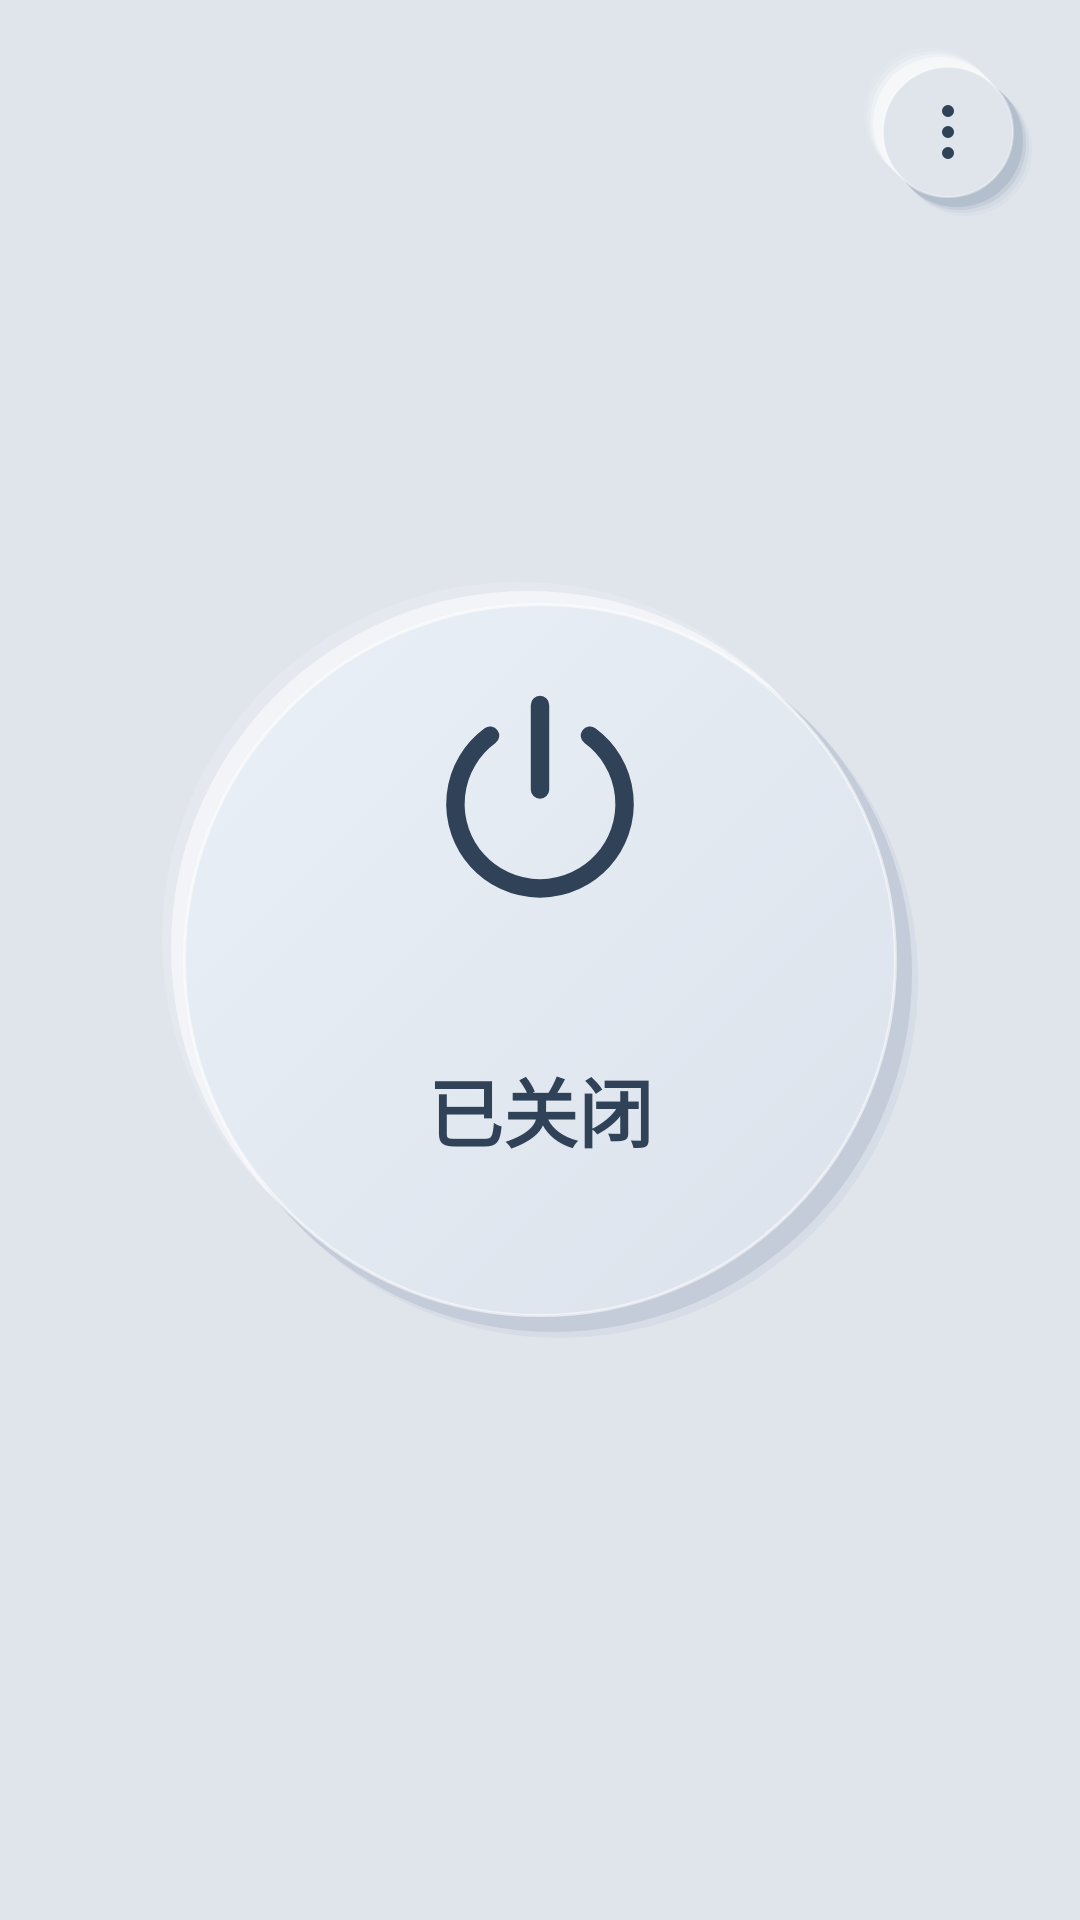

Named icons in this screenshot (1080px×1920px) and their centers, [x,y]:
菜单: [954,138]
